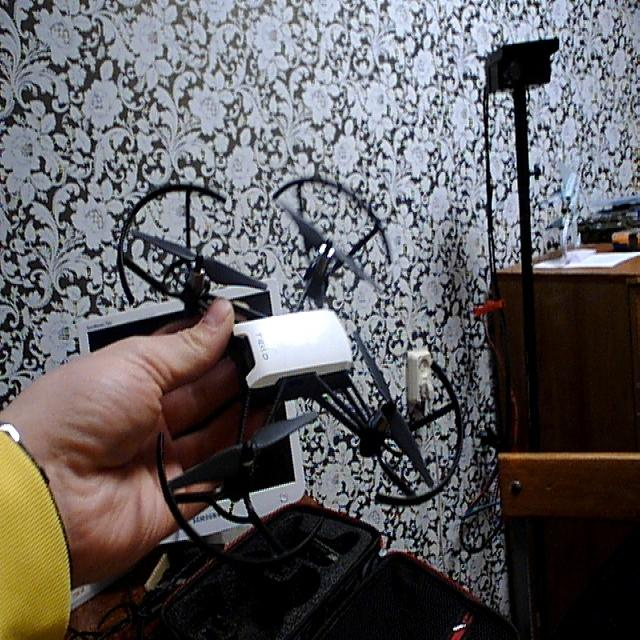drone: (108, 177, 477, 550)
